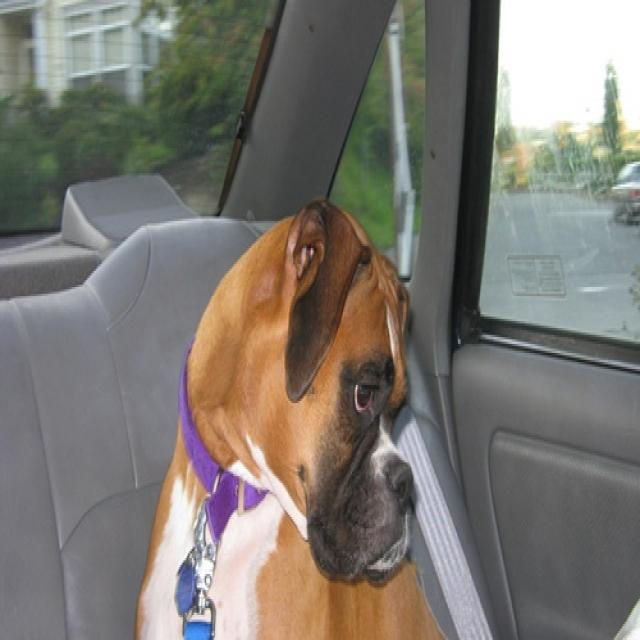dog-boxer: (127, 196, 445, 635)
